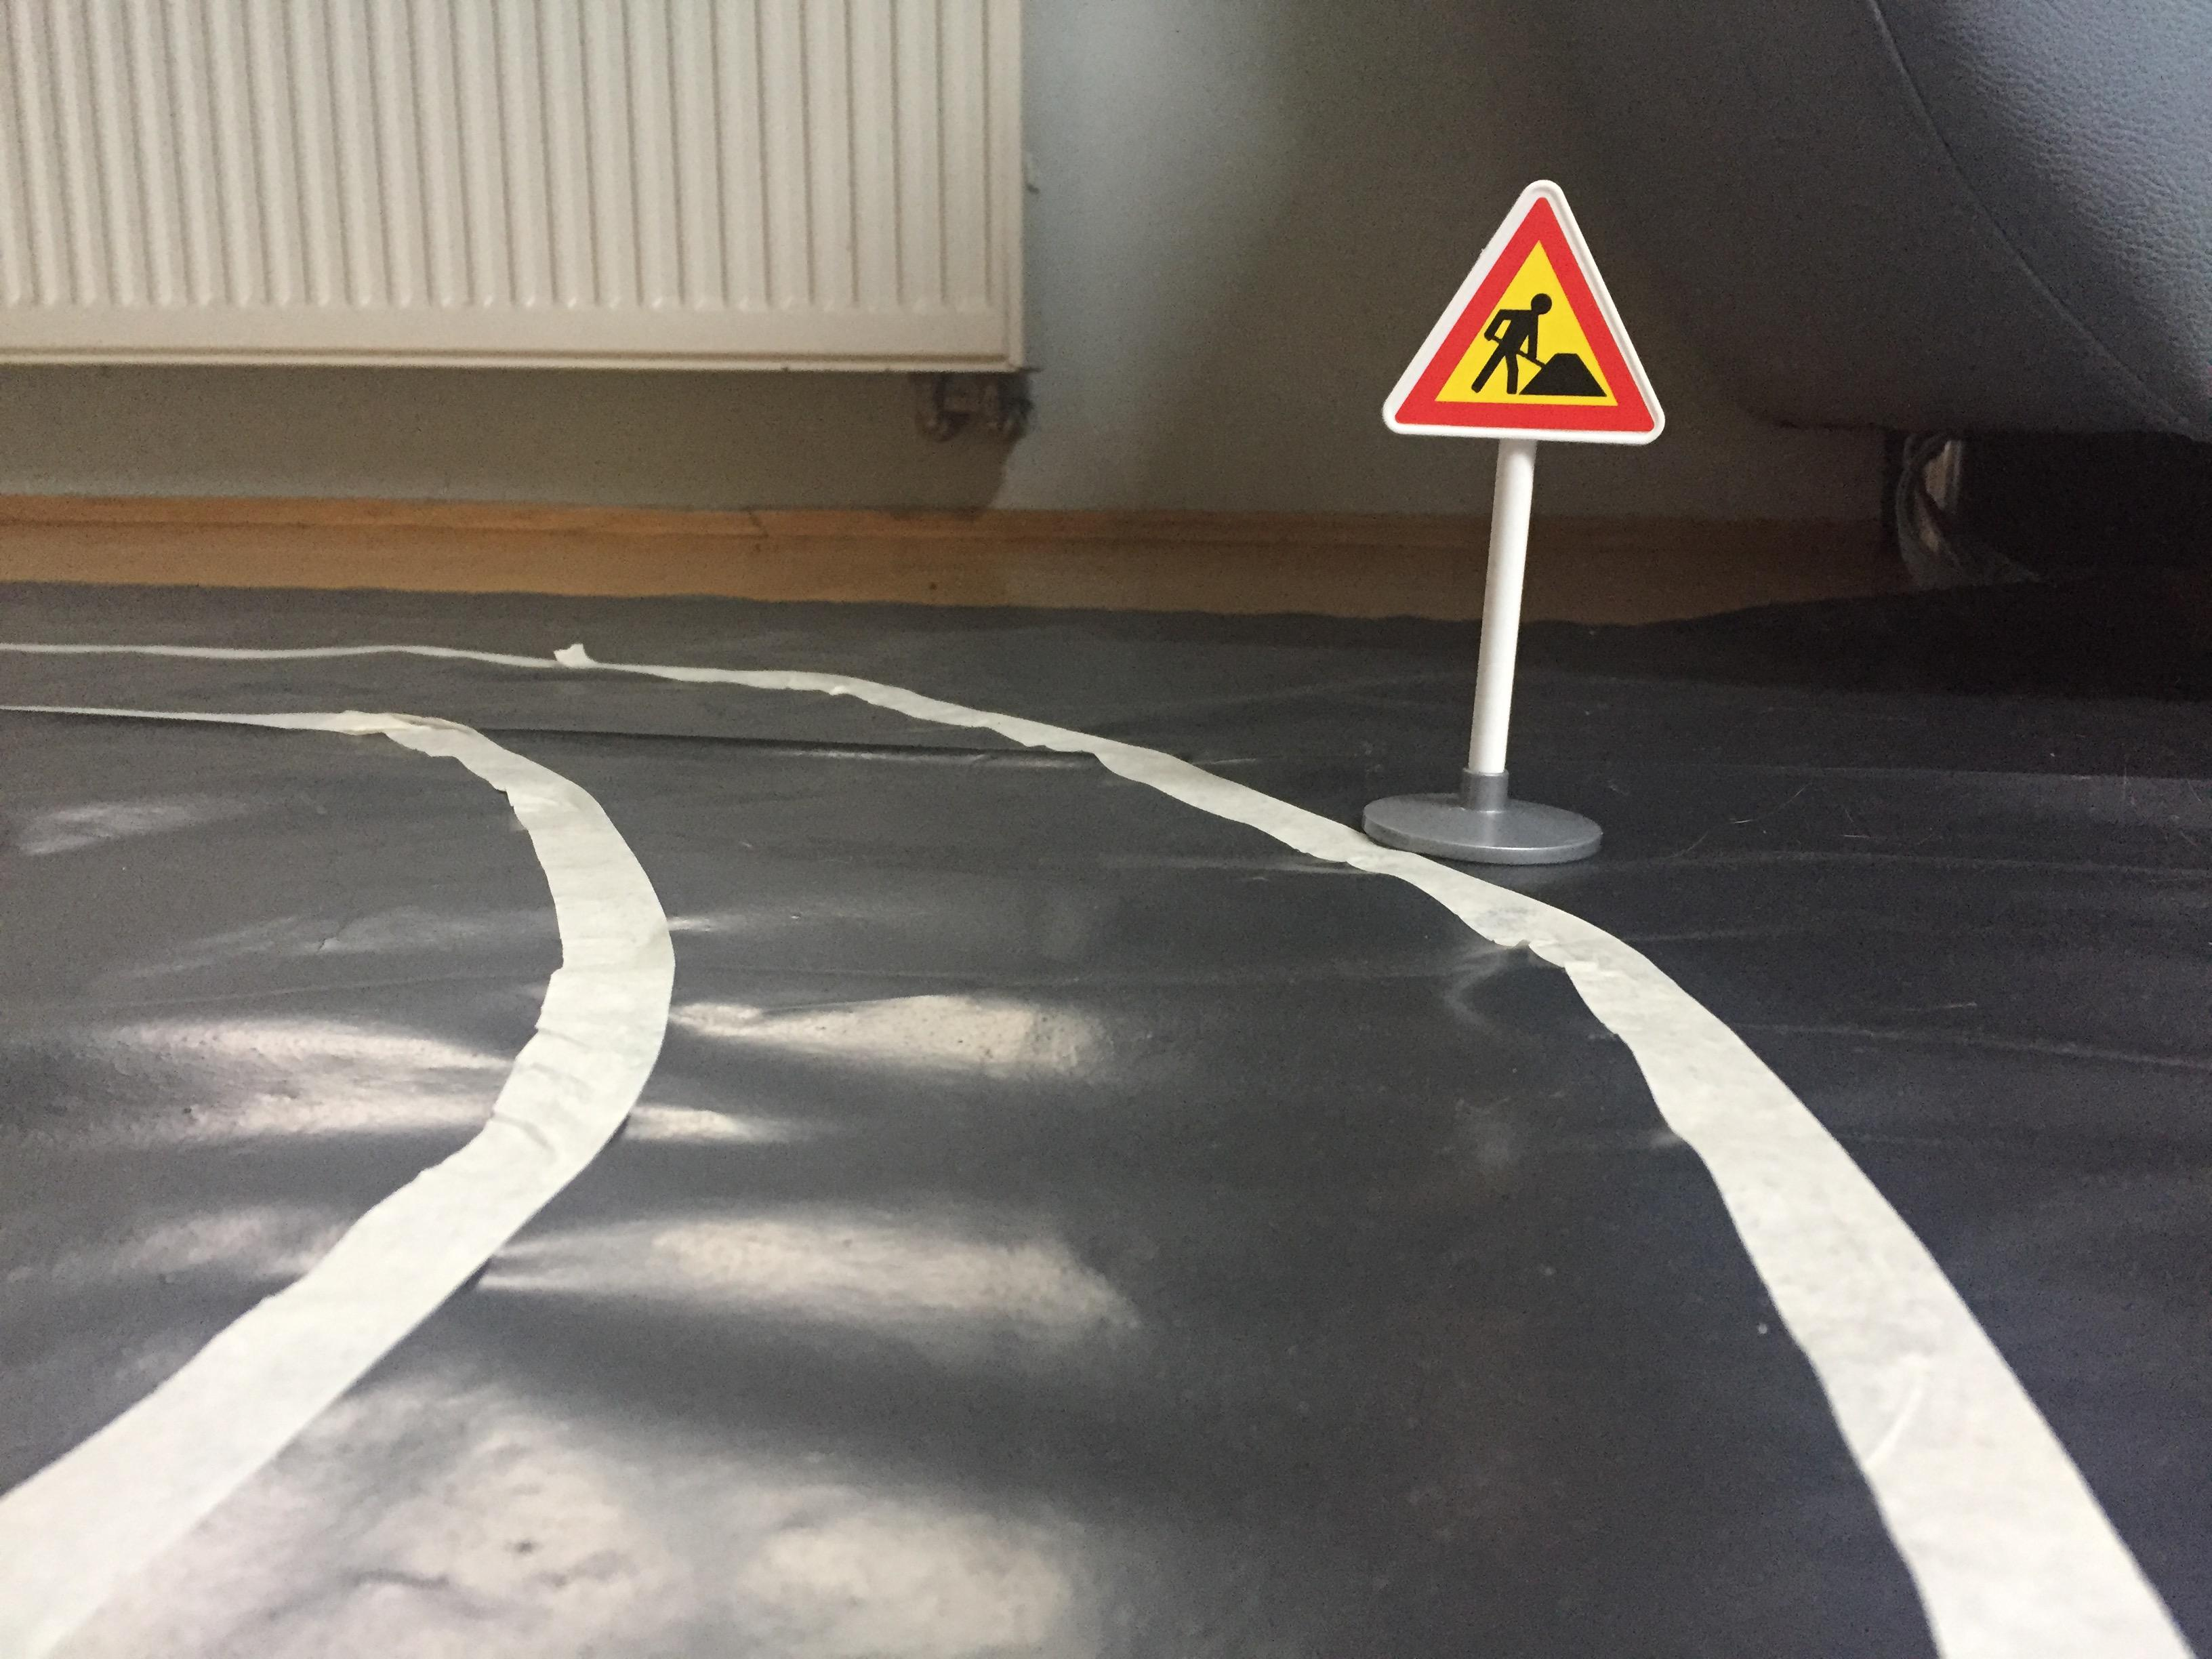work: (1369, 169, 1679, 462)
